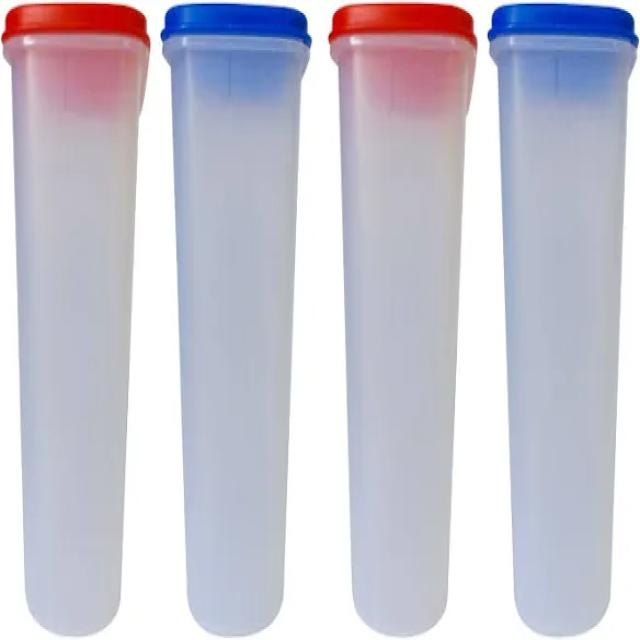plastic_bottle: (152, 2, 319, 635), (324, 3, 485, 638), (486, 0, 639, 638), (1, 0, 151, 638)
